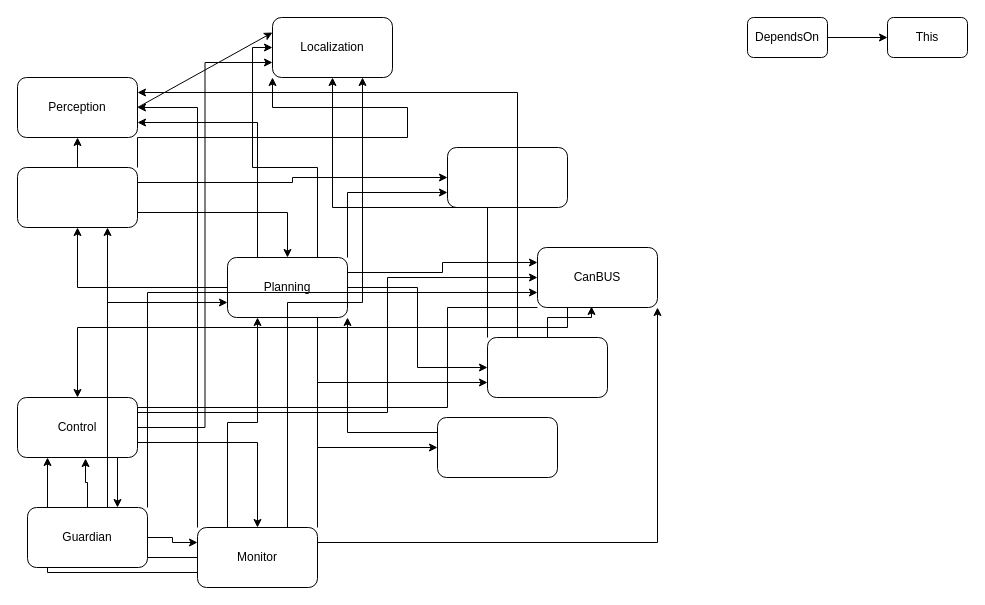
This 985x605 diagram has some shape labels left out. Here are the shapes that lost their labels. From the top down, the centre of each, then its label:
At [77,197]: "Prediction".
At [507,177]: "Storytelling".
At [547,367]: "Map".
At [497,447]: "Routing".
